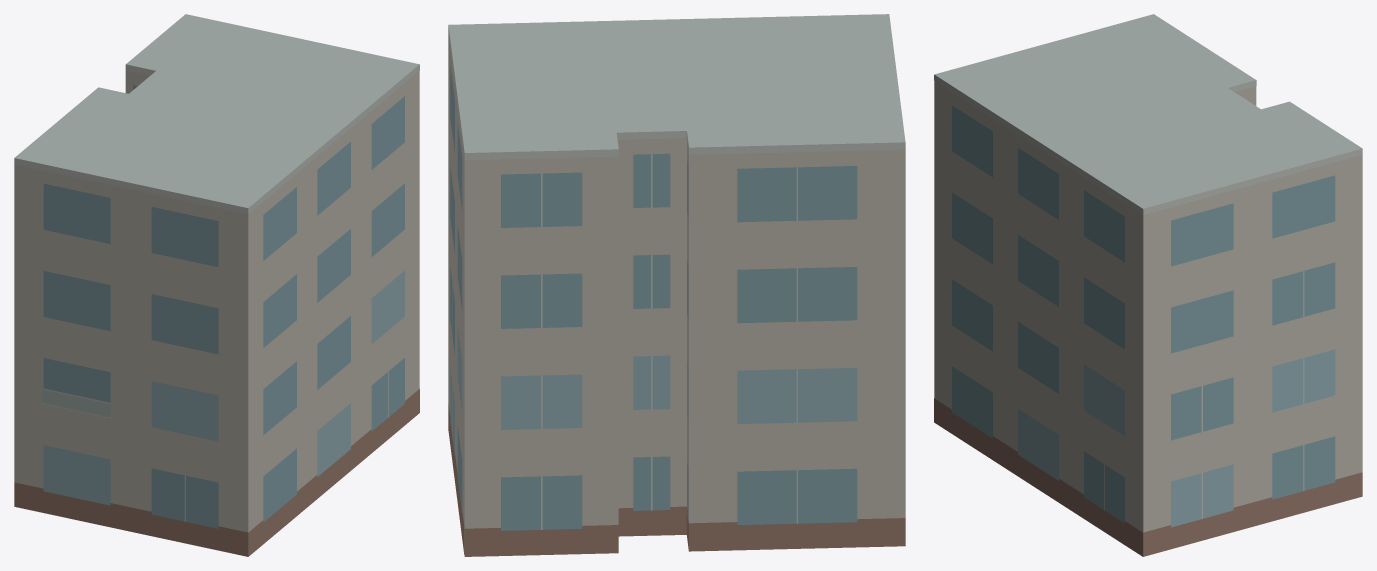
Rendered from survey-upis-32625082.glb.
3 renders of one model, left to right at view 1: azimuth 30°, elevation 25°; view 2: azimuth 150°, elevation 25°; view 3: azimuth 270°, elevation 25°, orthographic. The views are drawn at different scales.
Visible parts, largest first — view 1: survey-upis-32625082.tmp; view 2: survey-upis-32625082.tmp; view 3: survey-upis-32625082.tmp.
Boxes of the visible parts, x1=… form: survey-upis-32625082.tmp: x1=14, y1=14, x2=419, y2=556; survey-upis-32625082.tmp: x1=448, y1=14, x2=905, y2=556; survey-upis-32625082.tmp: x1=934, y1=14, x2=1362, y2=556.
Bounding box in the file's own units: 16.28 × 13.55 × 15.13.
